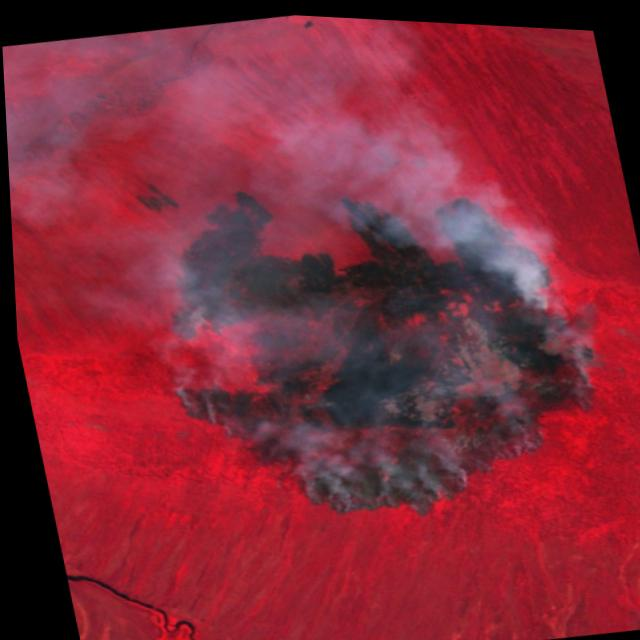fire: (128, 201, 638, 570)
